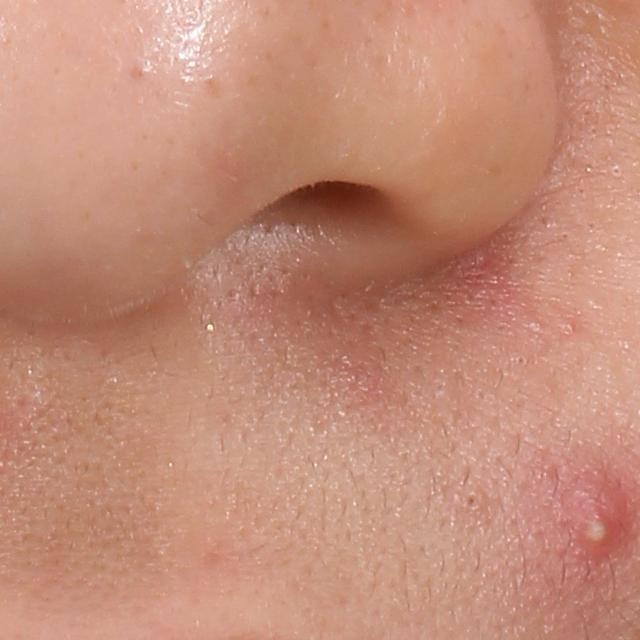comedo: (461, 491, 483, 510), (515, 353, 529, 367)
pustule: (563, 476, 636, 562)
